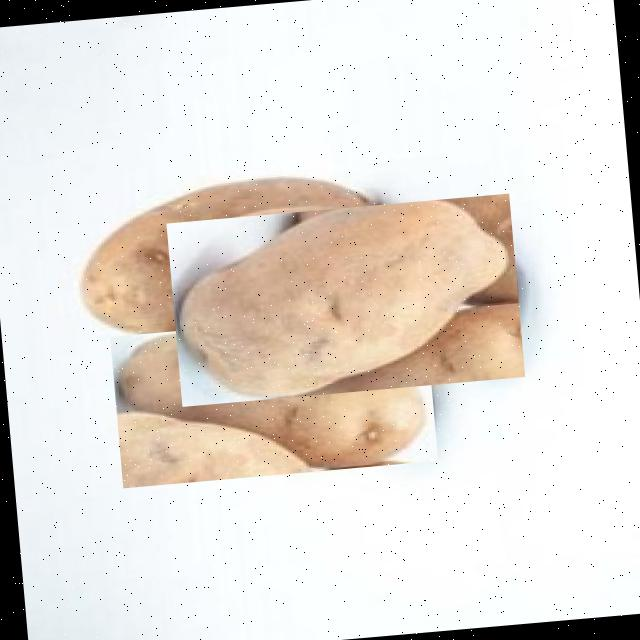Potato: (165, 194, 524, 406), (70, 165, 394, 346), (109, 309, 436, 488)
